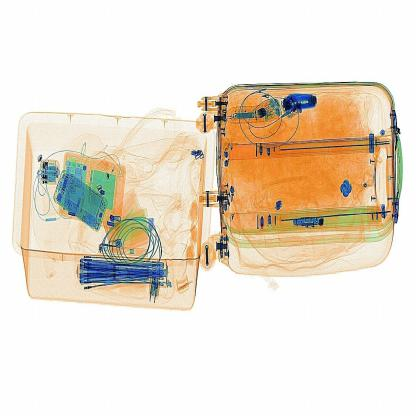scissors: (275, 85, 327, 121)
